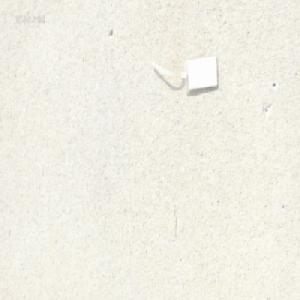LuggageTag: (149, 51, 220, 93)
